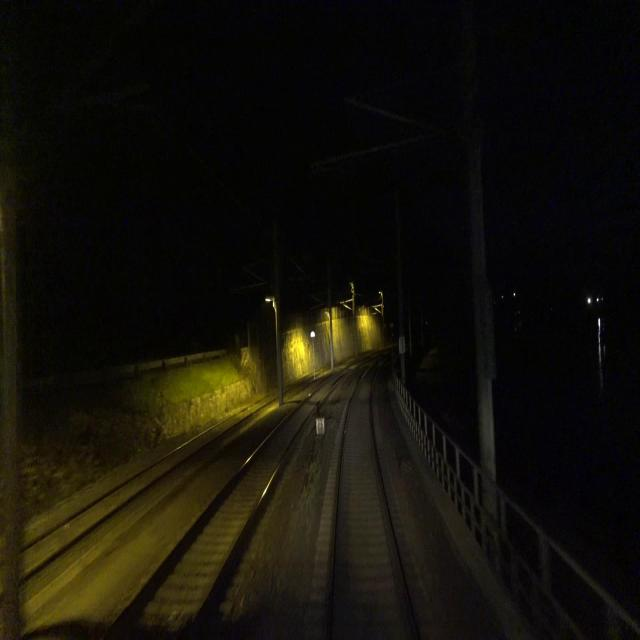rail-track: (106, 370, 346, 639), (0, 410, 249, 592), (332, 359, 414, 639)
